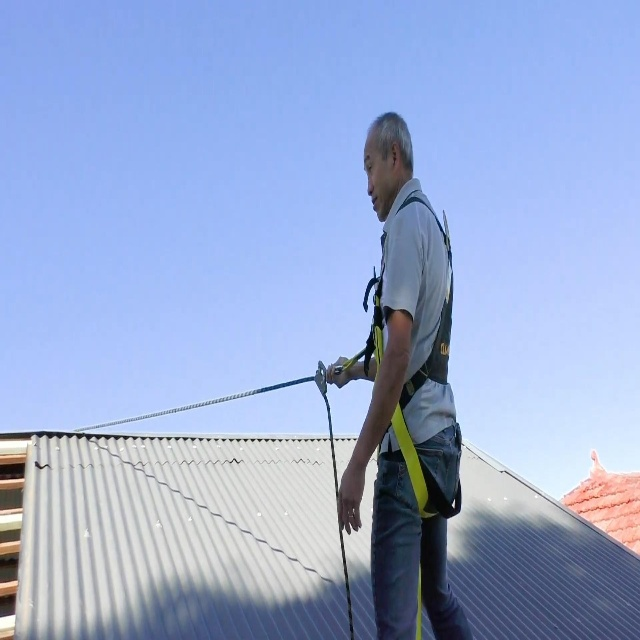Arnes_seguridad: (350, 195, 465, 522)
